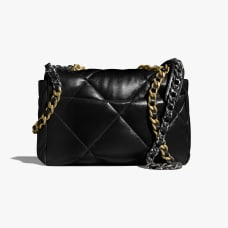channel: (29, 55, 197, 177), (34, 60, 206, 177), (144, 67, 188, 166)
